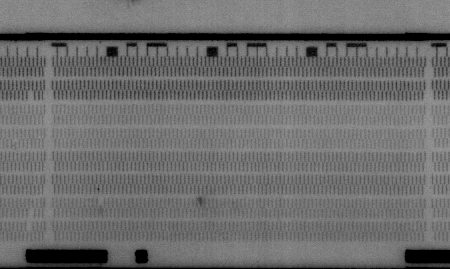Broken hole: (24, 209, 36, 231), (26, 90, 37, 104)
Oblique printing: (96, 195, 108, 210), (9, 140, 21, 152)
